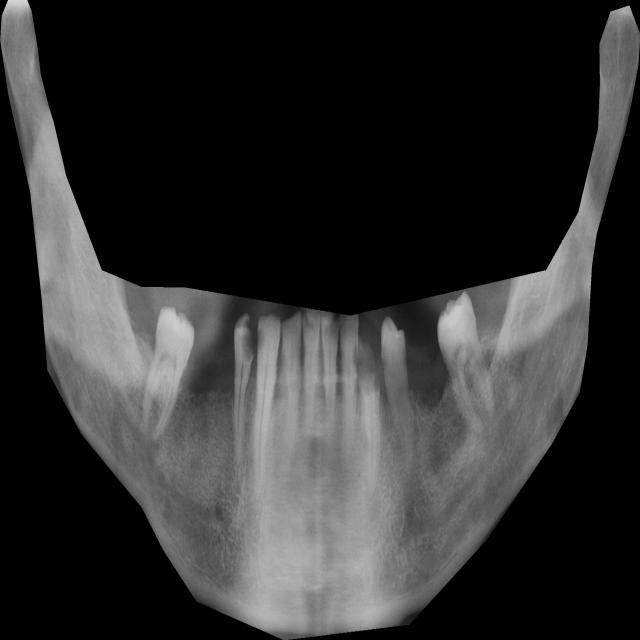mandibula: (0, 0, 640, 640)
